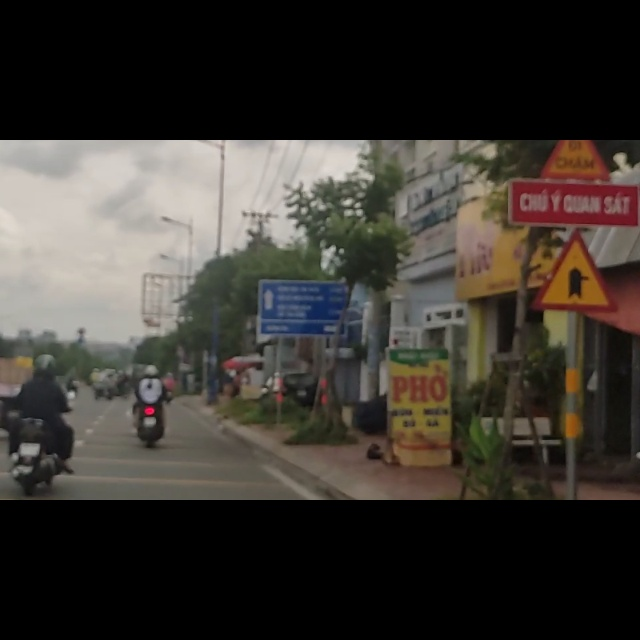bien_nguy_hiem: (529, 165, 623, 308)
